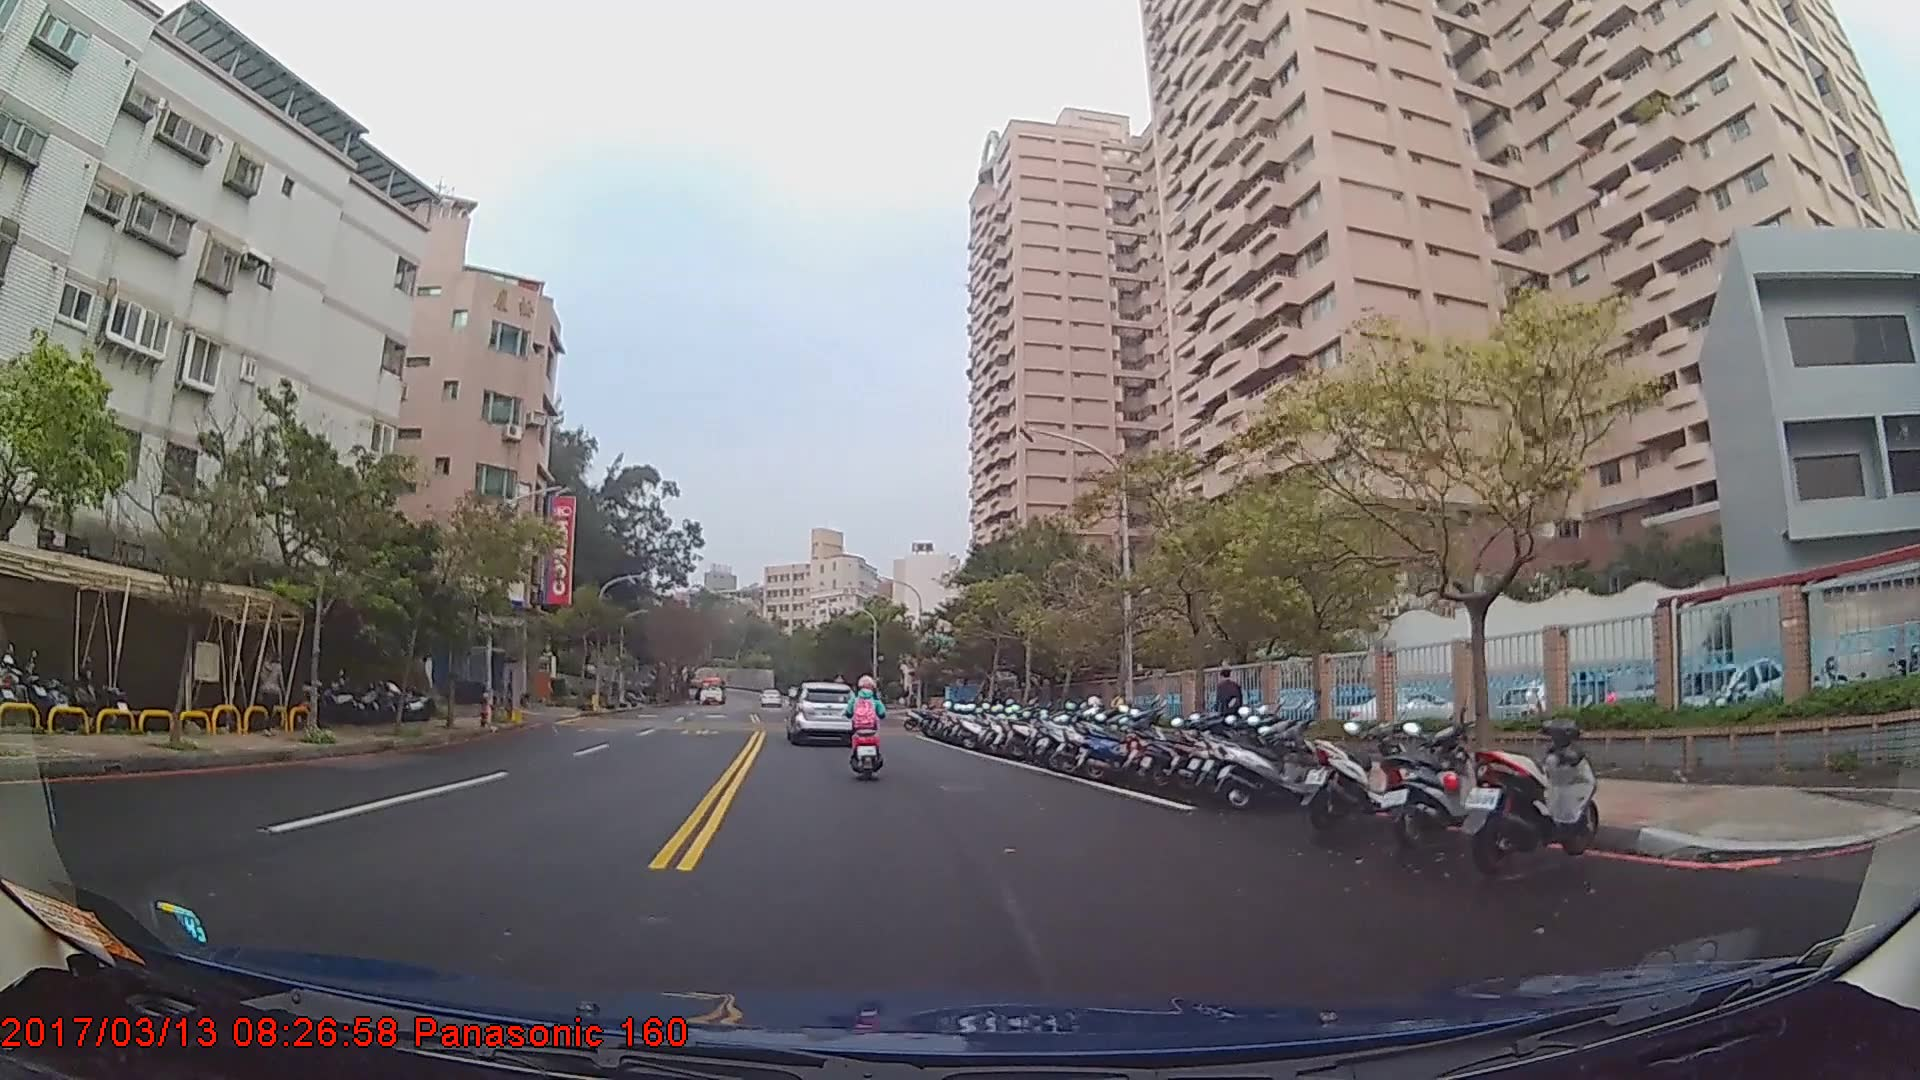pedestrian: (1214, 665, 1246, 749), (258, 648, 284, 733)
rider: (847, 674, 887, 771)
vehicle: (788, 678, 854, 745), (695, 675, 729, 706)
